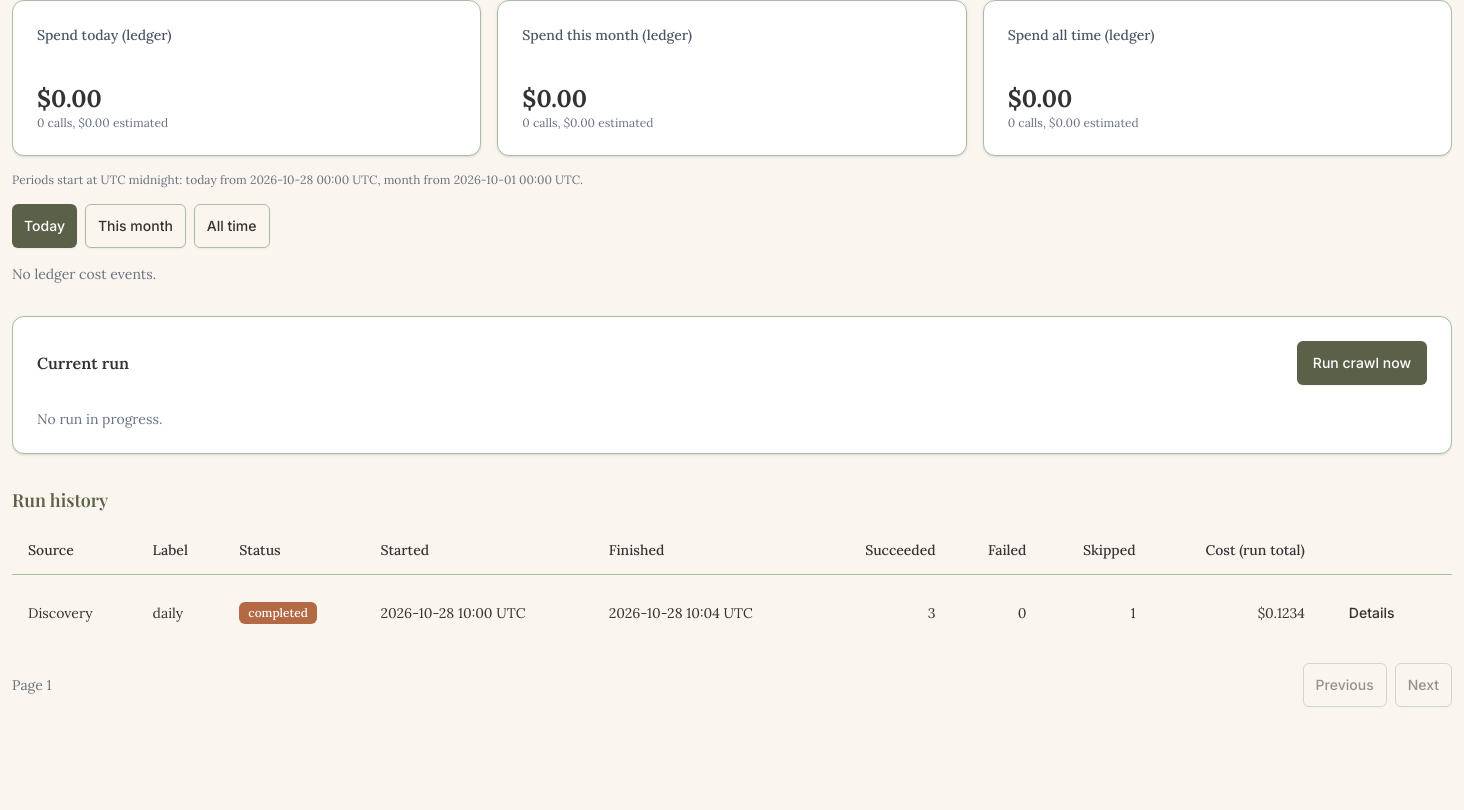
Test: CrawlMonitorDashboard confirms before triggering and disables while running › starts a crawl after confirmation and then disables the button
Click the button "Run crawl now". click: (1362, 363)
box: x1=1297 y1=341 x2=1427 y2=385
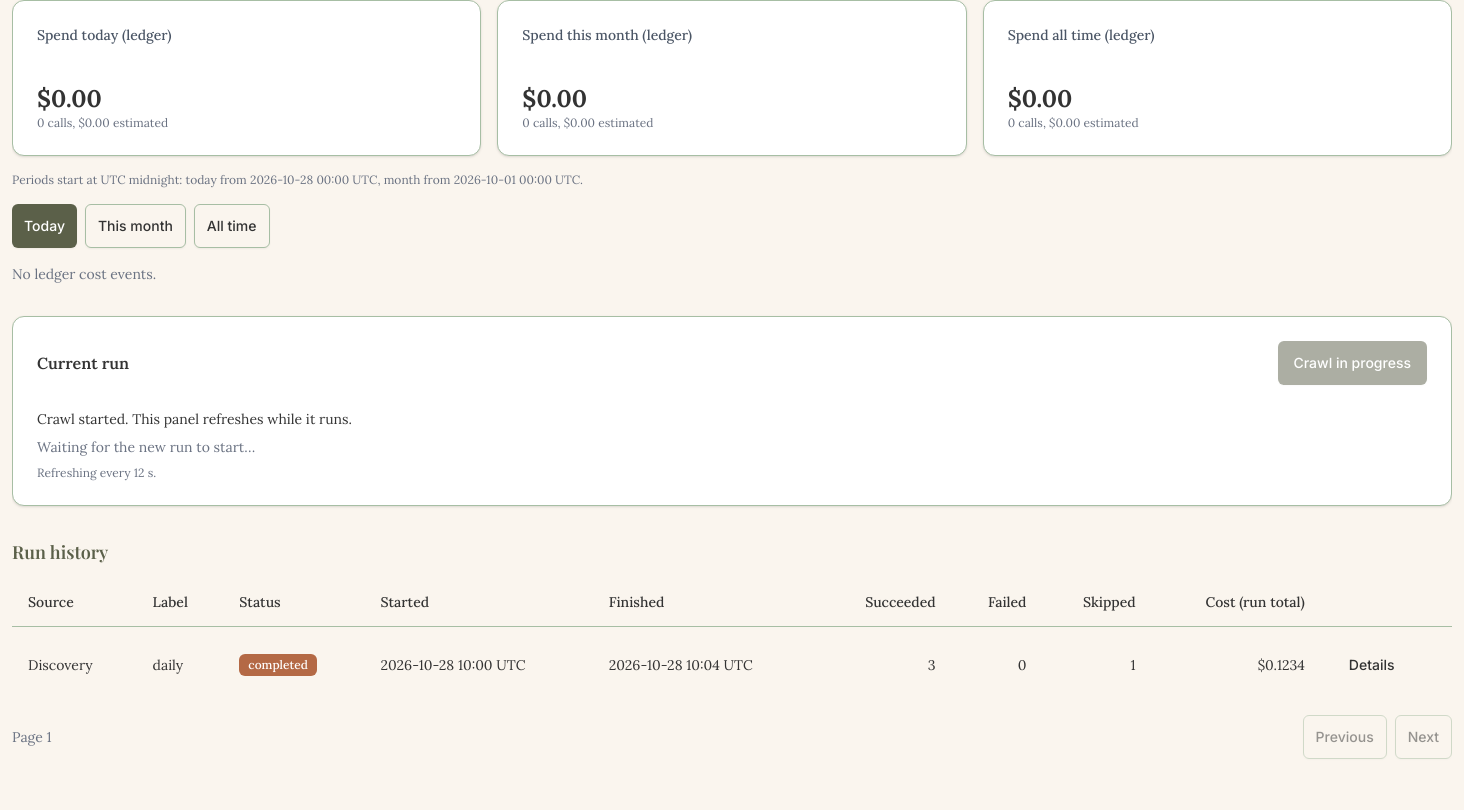
Now the button "Crawl in progress" is disabled, box x1=1278 y1=341 x2=1427 y2=385
